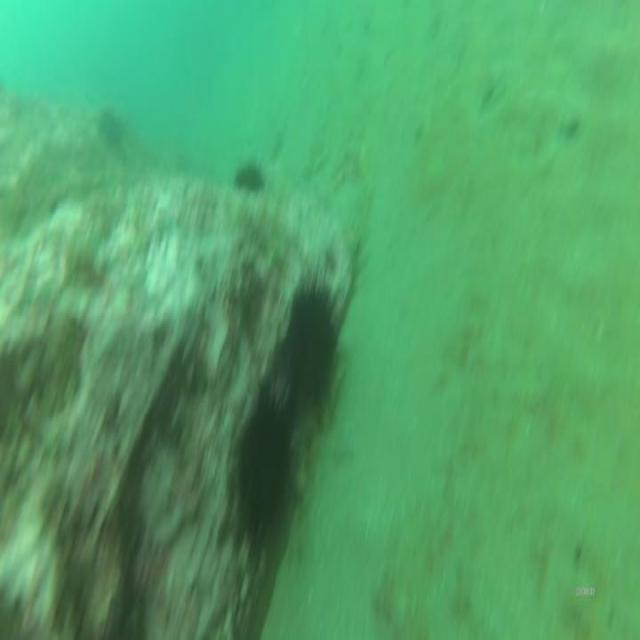echinus: (228, 362, 303, 551), (278, 258, 342, 428)
